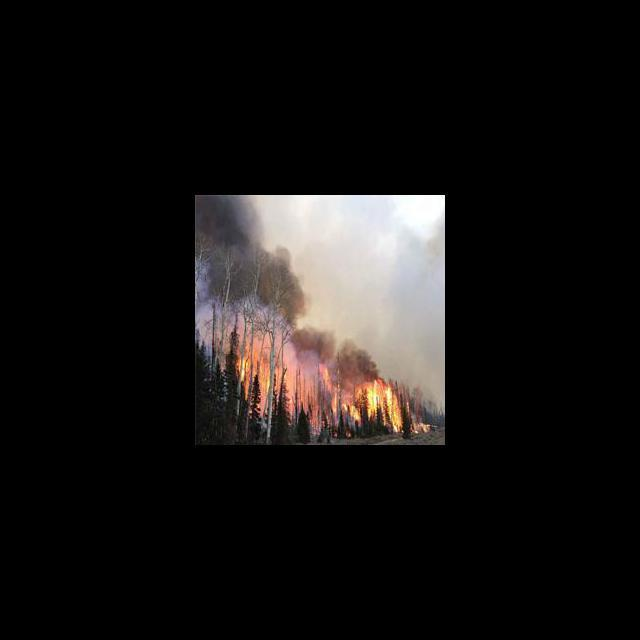Fire: (228, 339, 434, 435)
Smoke: (195, 195, 303, 338)
